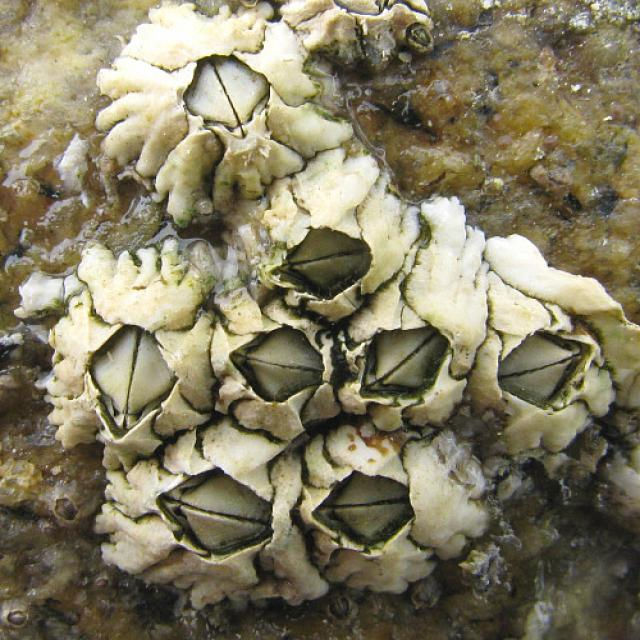barnacles: (94, 9, 351, 198), (36, 247, 211, 454), (104, 437, 302, 617), (286, 431, 490, 603), (472, 244, 624, 458), (348, 228, 491, 443), (240, 168, 401, 326), (213, 310, 341, 442)
